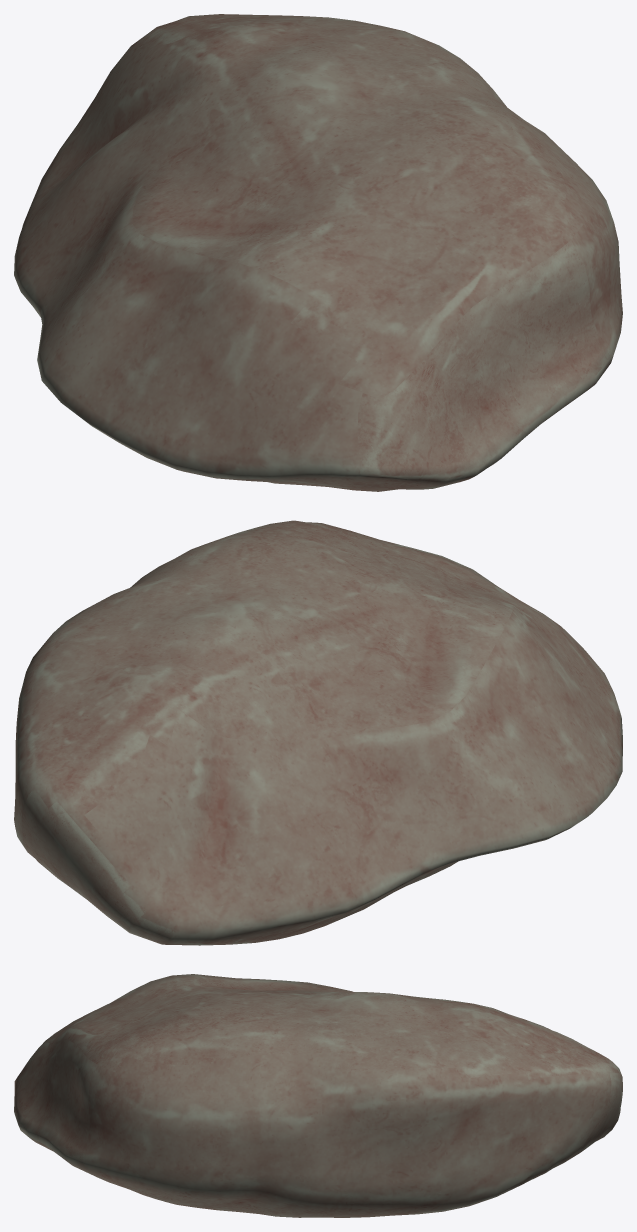
The model's file is SmallRock_03.fbx.
The picture shows the model from 3 angles, top to bottom: view 1: azimuth 30°, elevation 25°; view 2: azimuth 150°, elevation 25°; view 3: azimuth 270°, elevation 25°; orthographic projection. The views are drawn at different scales.
Visible parts, largest first — view 1: small_rock_05_lopoly:Group20827; view 2: small_rock_05_lopoly:Group20827; view 3: small_rock_05_lopoly:Group20827.
Part boxes in pixels (left/top/right/bottom): small_rock_05_lopoly:Group20827: left=14, top=14, right=622, bottom=491; small_rock_05_lopoly:Group20827: left=14, top=520, right=622, bottom=945; small_rock_05_lopoly:Group20827: left=14, top=974, right=622, bottom=1217.
Size of the model in its own units: 3.47 by 1.91 by 4.93.
